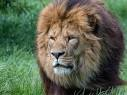lion: (33, 2, 123, 95)
